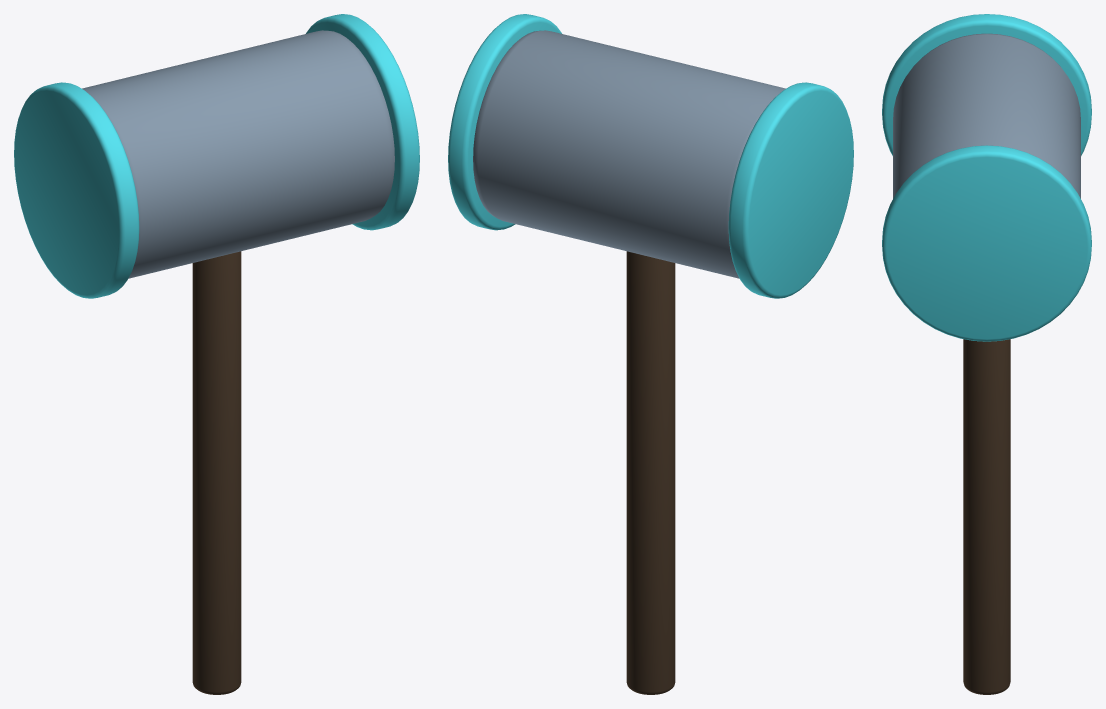
The model's file is hammer_v2.glb.
3 views of the same model, side by side, from view 1: azimuth 30°, elevation 25°; view 2: azimuth 150°, elevation 25°; view 3: azimuth 270°, elevation 25° (orthographic). The views are drawn at different scales.
Visible parts, largest first — view 1: MAUL_HEAD_PRIMARY, HAFT_SECONDARY, MAUL_FACE_ACCENT, MAUL_FACE_ACCENT.001; view 2: MAUL_HEAD_PRIMARY, HAFT_SECONDARY, MAUL_FACE_ACCENT, MAUL_FACE_ACCENT.001; view 3: MAUL_FACE_ACCENT.001, MAUL_HEAD_PRIMARY, HAFT_SECONDARY, MAUL_FACE_ACCENT.
Boxes of the visible parts, <box> form: MAUL_HEAD_PRIMARY: <box>82,30,394,278</box>; HAFT_SECONDARY: <box>192,251,241,694</box>; MAUL_FACE_ACCENT: <box>14,82,139,298</box>; MAUL_FACE_ACCENT.001: <box>306,14,419,230</box>; MAUL_HEAD_PRIMARY: <box>473,30,785,278</box>; HAFT_SECONDARY: <box>626,251,675,694</box>; MAUL_FACE_ACCENT: <box>728,82,853,298</box>; MAUL_FACE_ACCENT.001: <box>448,14,561,230</box>; MAUL_FACE_ACCENT.001: <box>882,145,1091,341</box>; MAUL_HEAD_PRIMARY: <box>893,33,1080,198</box>; HAFT_SECONDARY: <box>963,339,1010,694</box>; MAUL_FACE_ACCENT: <box>882,14,1091,155</box>.
Size of the model in its own units: 1.84 by 3.69 by 1.16.
